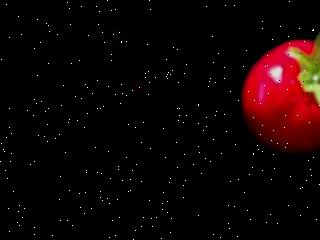Tomato: (239, 29, 320, 166)
